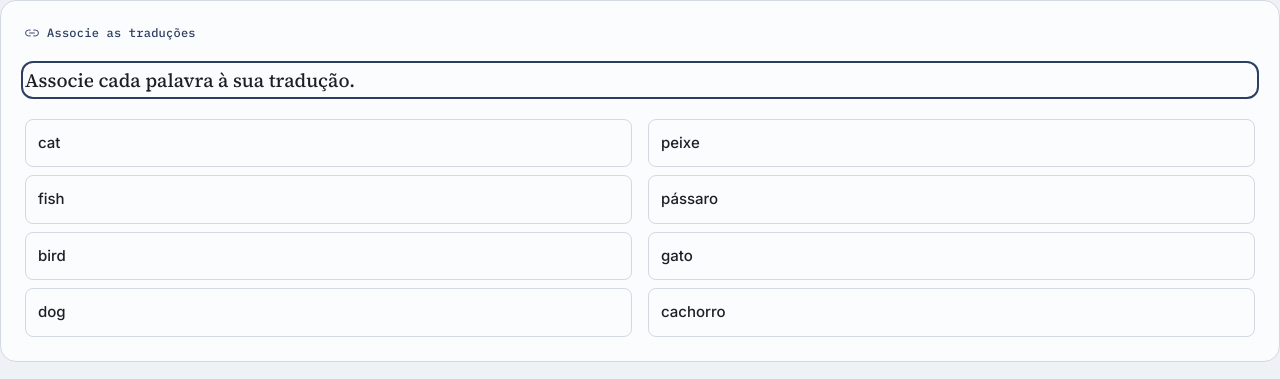
it: MatchTranslationExercise › keyboard support (P2) › a pair already matched cannot be re-selected via keyboard - it's removed from the tab order
Click the button "cat".
click(49, 142)  # box top-left (25, 119), bottom-right (632, 168)
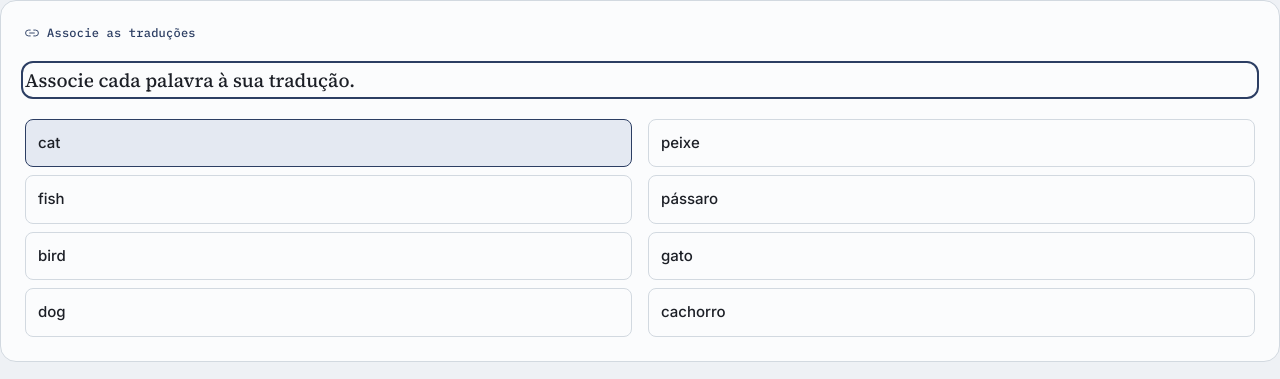
Click the button "gato".
click(677, 255)  # box top-left (648, 232), bottom-right (1255, 280)
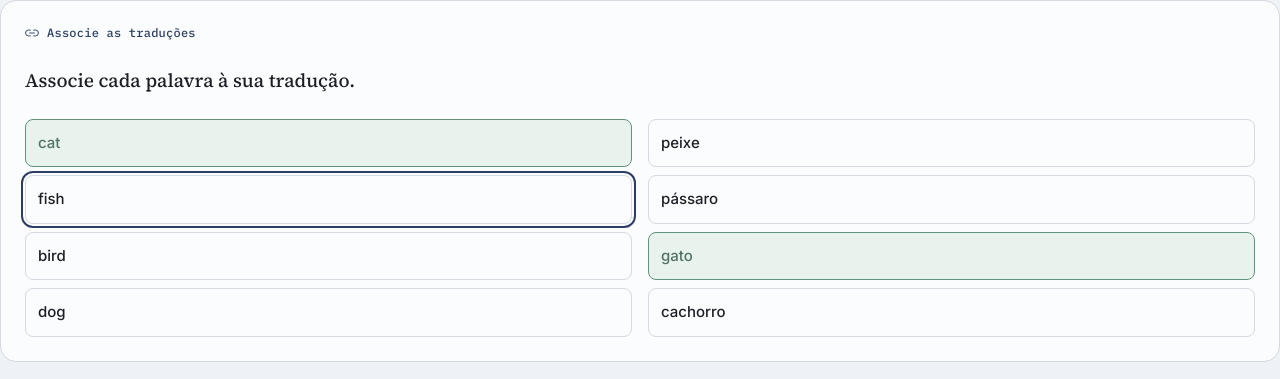
Now the button "cat" is disabled, box top-left (25, 119), bottom-right (632, 168)
